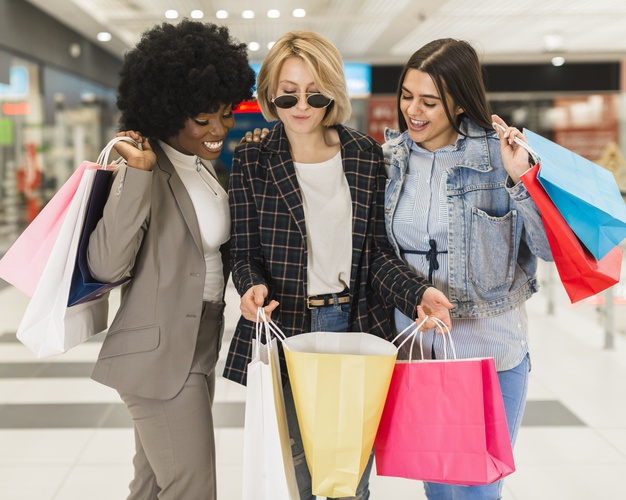Person: (378, 40, 552, 500), (82, 25, 248, 500), (234, 34, 394, 500)
